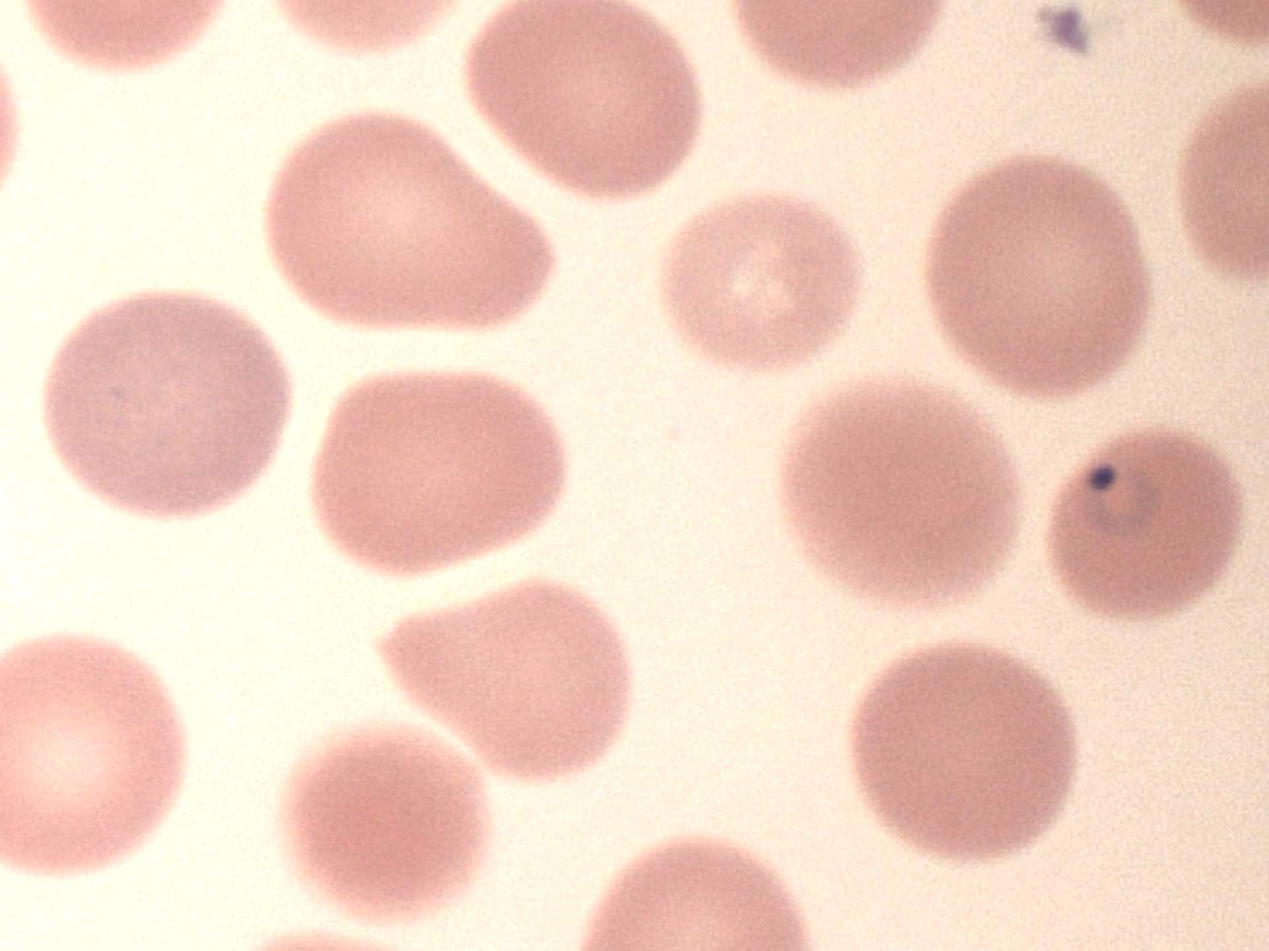Infected: (1053, 428, 1238, 618)
Uninfected: (268, 111, 556, 334), (43, 293, 295, 519), (785, 375, 1020, 609), (925, 154, 1147, 398), (309, 372, 564, 573), (382, 579, 629, 778), (851, 646, 1077, 861), (466, 2, 703, 201), (0, 630, 184, 876), (284, 719, 494, 925), (658, 190, 859, 371), (583, 838, 808, 951)
